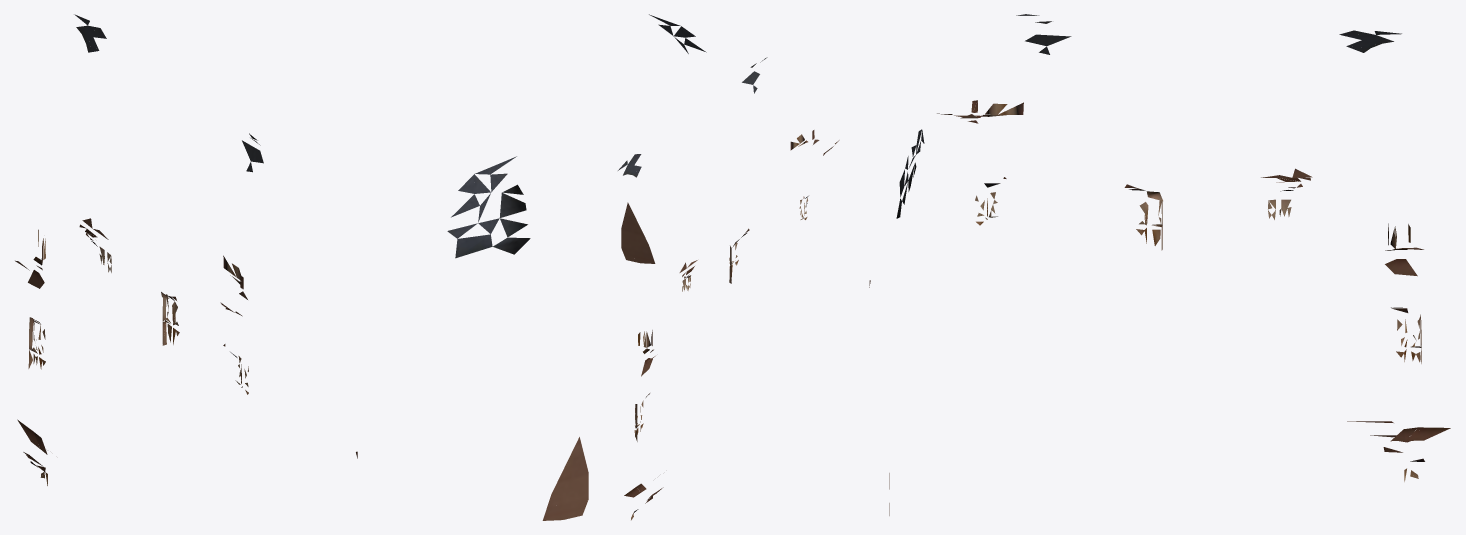
Rendered from GildedAgeMansion_WindowLighting.fbx.
3 views of the same model, side by side, from view 1: azimuth 30°, elevation 25°; view 2: azimuth 150°, elevation 25°; view 3: azimuth 270°, elevation 25° (orthographic). The views are drawn at different scales.
Visible parts, largest first — view 1: GildedAgeMansion_TexturedWindowLighting; view 2: GildedAgeMansion_TexturedWindowLighting; view 3: GildedAgeMansion_TexturedWindowLighting.
Boxes of the visible parts, left/top/right/bottom form: GildedAgeMansion_TexturedWindowLighting: left=15, top=14, right=588, bottom=520; GildedAgeMansion_TexturedWindowLighting: left=618, top=14, right=839, bottom=520; GildedAgeMansion_TexturedWindowLighting: left=869, top=14, right=1450, bottom=515.
Bounding box in the file's own units: 743 × 1067 × 1178.
